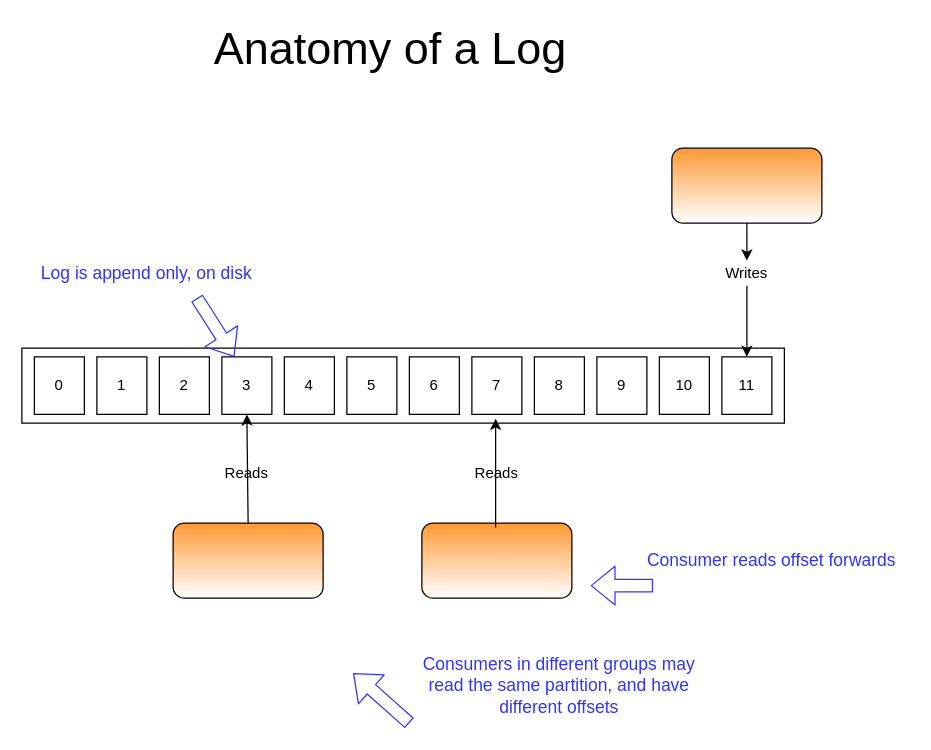
Image size: 931x750. Some labels were removed from this diagram. Each missing label, with the box of its shape:
Data Source: (671, 147, 822, 223)
Group 0 Consumer A Offset: 3: (172, 522, 323, 598)
Group 1 Consumer A Offset 7: (421, 522, 572, 598)
